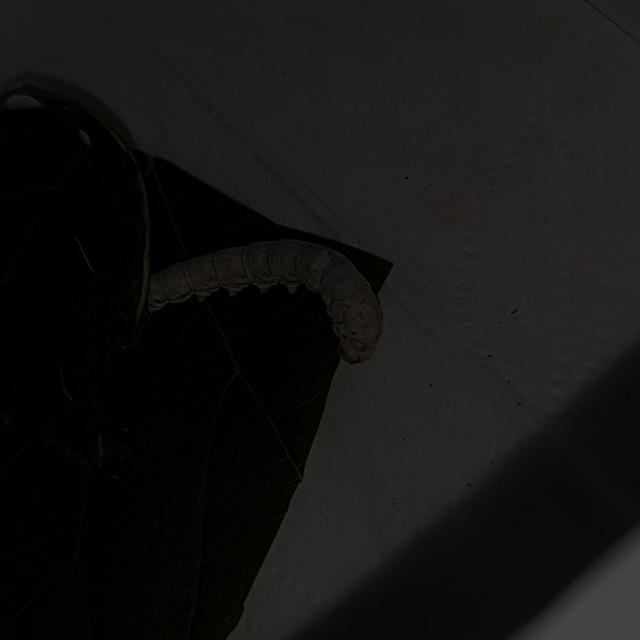Healthy: (134, 217, 401, 380)
